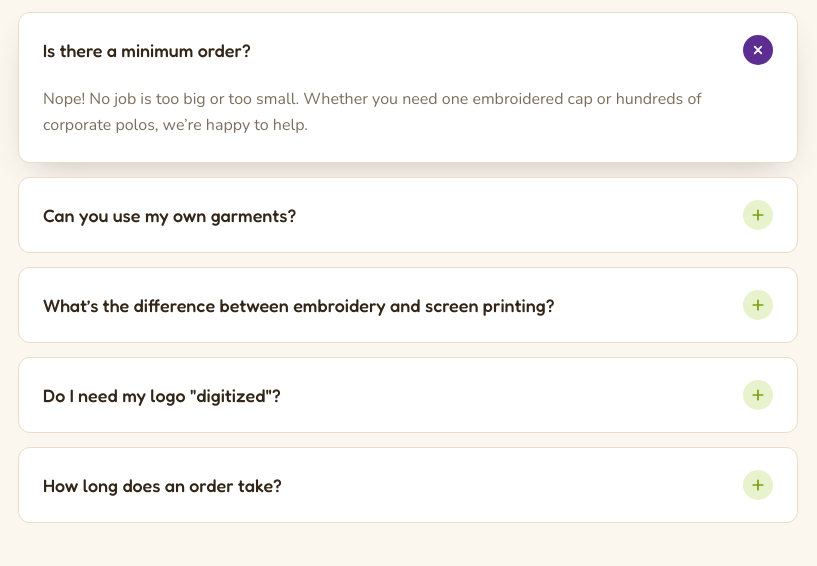
it: FAQ accordion › opens a clicked question and closes the previous one
Step 1. Click the 3rd button → (408, 305), box [19,268,797,342]
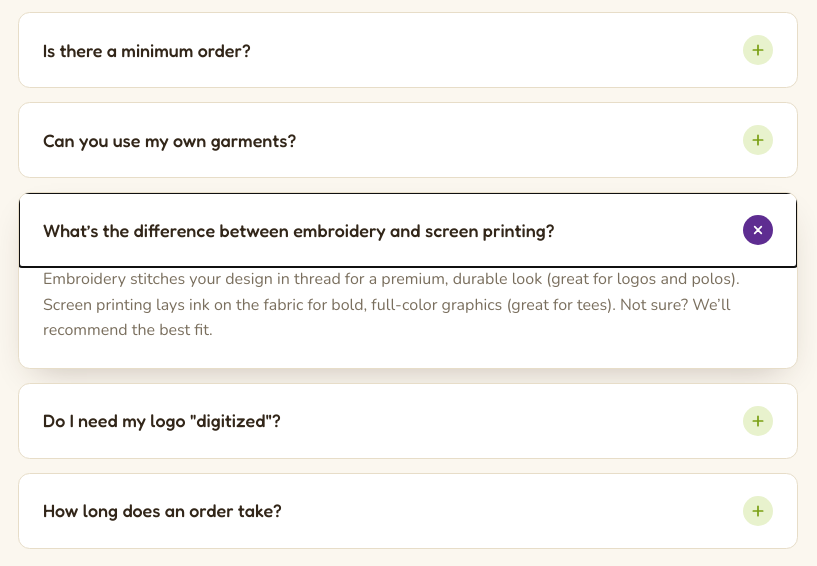
Now the 3rd button is expanded, box [19,193,797,267]
Now the button "Is there a minimum order?" is collapsed, box [19,13,797,87]
